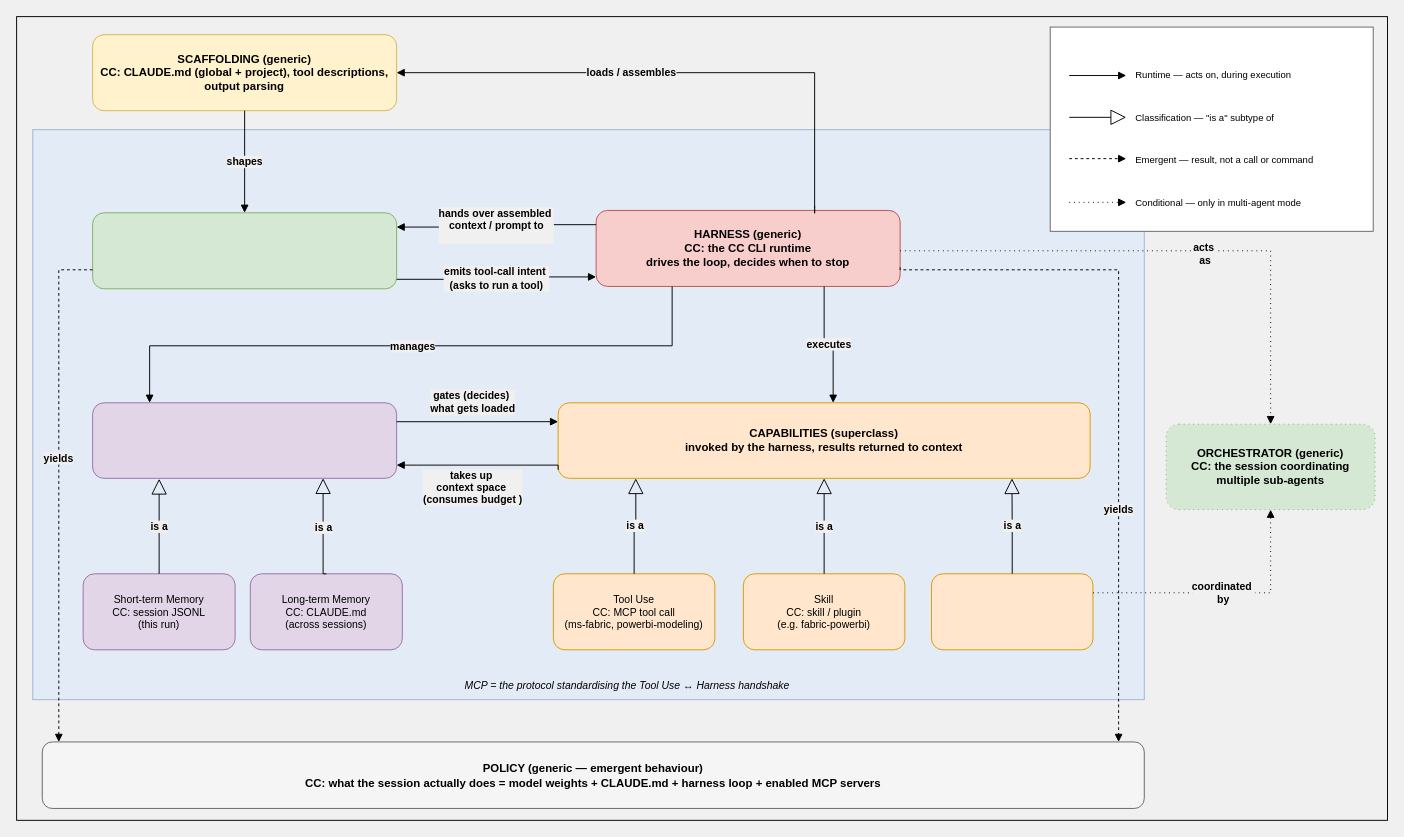
This 1404x837 diagram has some shape labels left out. The box of each missing label's shape, as (x1, y1, x2, y2) in pixels:
AGENT (generic) = Model + Harness CC: a running CC session in the terminal: (32, 129, 1144, 700)
CONTEXT ENGINEERING (generic) CC: settings.json tiers, /compact, /resume: (92, 402, 397, 478)
LEGEND — line styles: (1049, 26, 1373, 231)
MODEL (generic) CC: Claude (Opus / Sonnet) stateless, no loop: (92, 212, 397, 289)
Sub-agent CC: claude agents own model + scaffold: (931, 573, 1093, 650)
